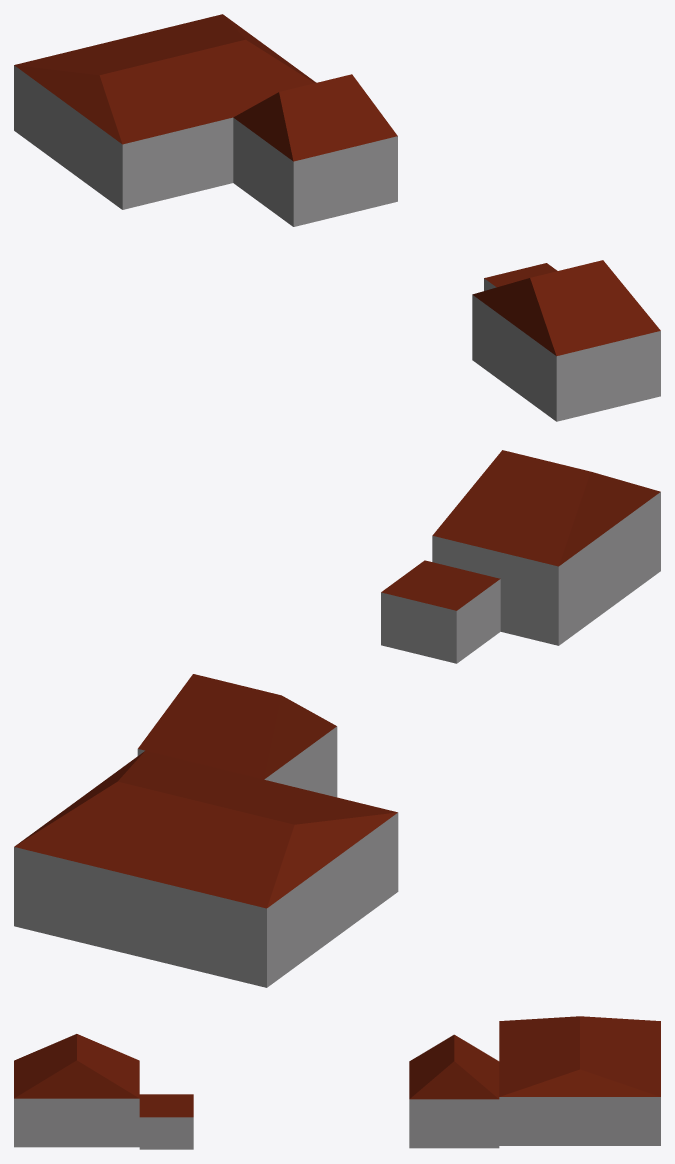
File: Main Map__Heaven__Plaza_Area.fbx
The picture shows the model from 3 angles, top to bottom: view 1: azimuth 30°, elevation 25°; view 2: azimuth 150°, elevation 25°; view 3: azimuth 270°, elevation 25°; orthographic projection. The views are drawn at different scales.
Visible parts, largest first — view 1: House.001__BOX_COLLIDER, House__BOX_COLLIDER.001, House.004__BOX_COLLIDER, House__BOX_COLLIDER; view 2: House.001__BOX_COLLIDER, House__BOX_COLLIDER.001, House.004__BOX_COLLIDER, House__BOX_COLLIDER; view 3: House.001__BOX_COLLIDER, House__BOX_COLLIDER.001, House.004__BOX_COLLIDER, House__BOX_COLLIDER.
Boxes of the visible parts, x1=… form: House.001__BOX_COLLIDER: x1=14, y1=14, x2=316, y2=209; House__BOX_COLLIDER.001: x1=472, y1=260, x2=660, y2=421; House.004__BOX_COLLIDER: x1=233, y1=74, x2=397, y2=226; House__BOX_COLLIDER: x1=484, y1=263, x2=557, y2=290; House.001__BOX_COLLIDER: x1=14, y1=750, x2=398, y2=987; House__BOX_COLLIDER.001: x1=432, y1=450, x2=660, y2=645; House.004__BOX_COLLIDER: x1=137, y1=674, x2=337, y2=797; House__BOX_COLLIDER: x1=381, y1=560, x2=500, y2=663; House.001__BOX_COLLIDER: x1=499, y1=1016, x2=660, y2=1145; House__BOX_COLLIDER.001: x1=14, y1=1034, x2=139, y2=1147; House.004__BOX_COLLIDER: x1=409, y1=1034, x2=499, y2=1148; House__BOX_COLLIDER: x1=139, y1=1094, x2=193, y2=1149.
Bounding box in the file's own units: 1050 × 500 × 3600.
